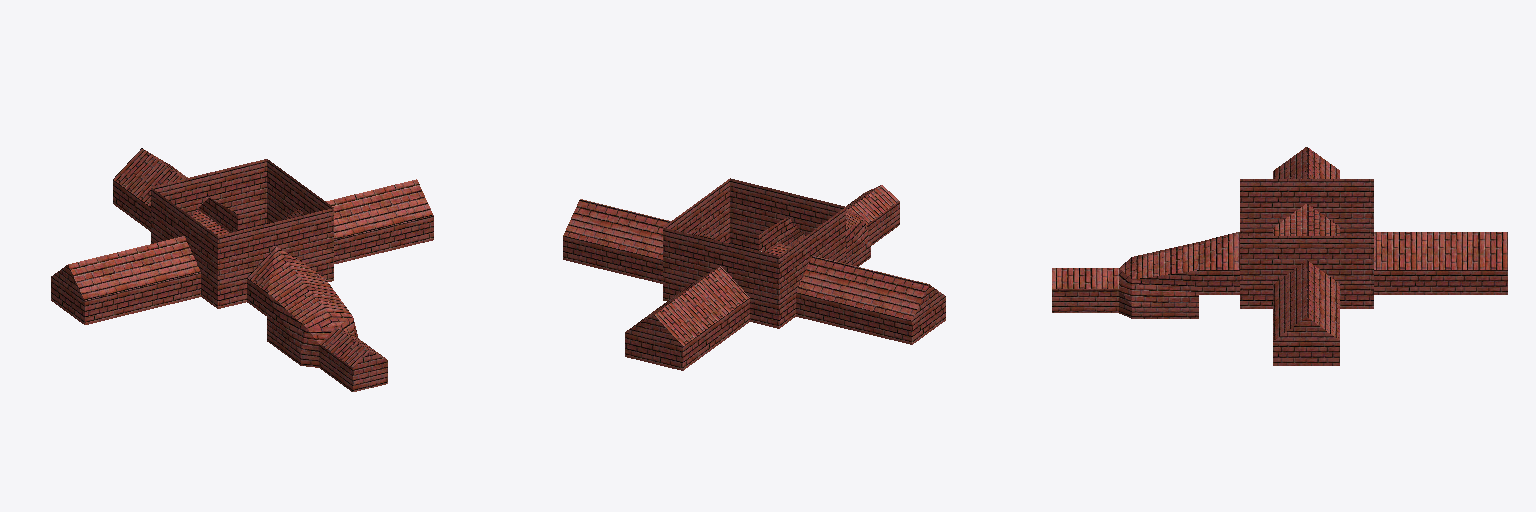
3 renders of one model, left to right at view 1: azimuth 30°, elevation 25°; view 2: azimuth 150°, elevation 25°; view 3: azimuth 270°, elevation 25°, orthographic.
Visible parts, largest first — view 1: Map; view 2: Map; view 3: Map.
Boxes of the visible parts, x1,y1,x2,y2 form: Map: [51, 148, 433, 391]; Map: [563, 178, 945, 370]; Map: [1052, 147, 1507, 365].
Bounding box in the file's own units: 30 × 8 × 34.
2 materials, 2 textured.